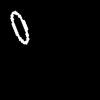chain: (11, 11, 28, 43)
